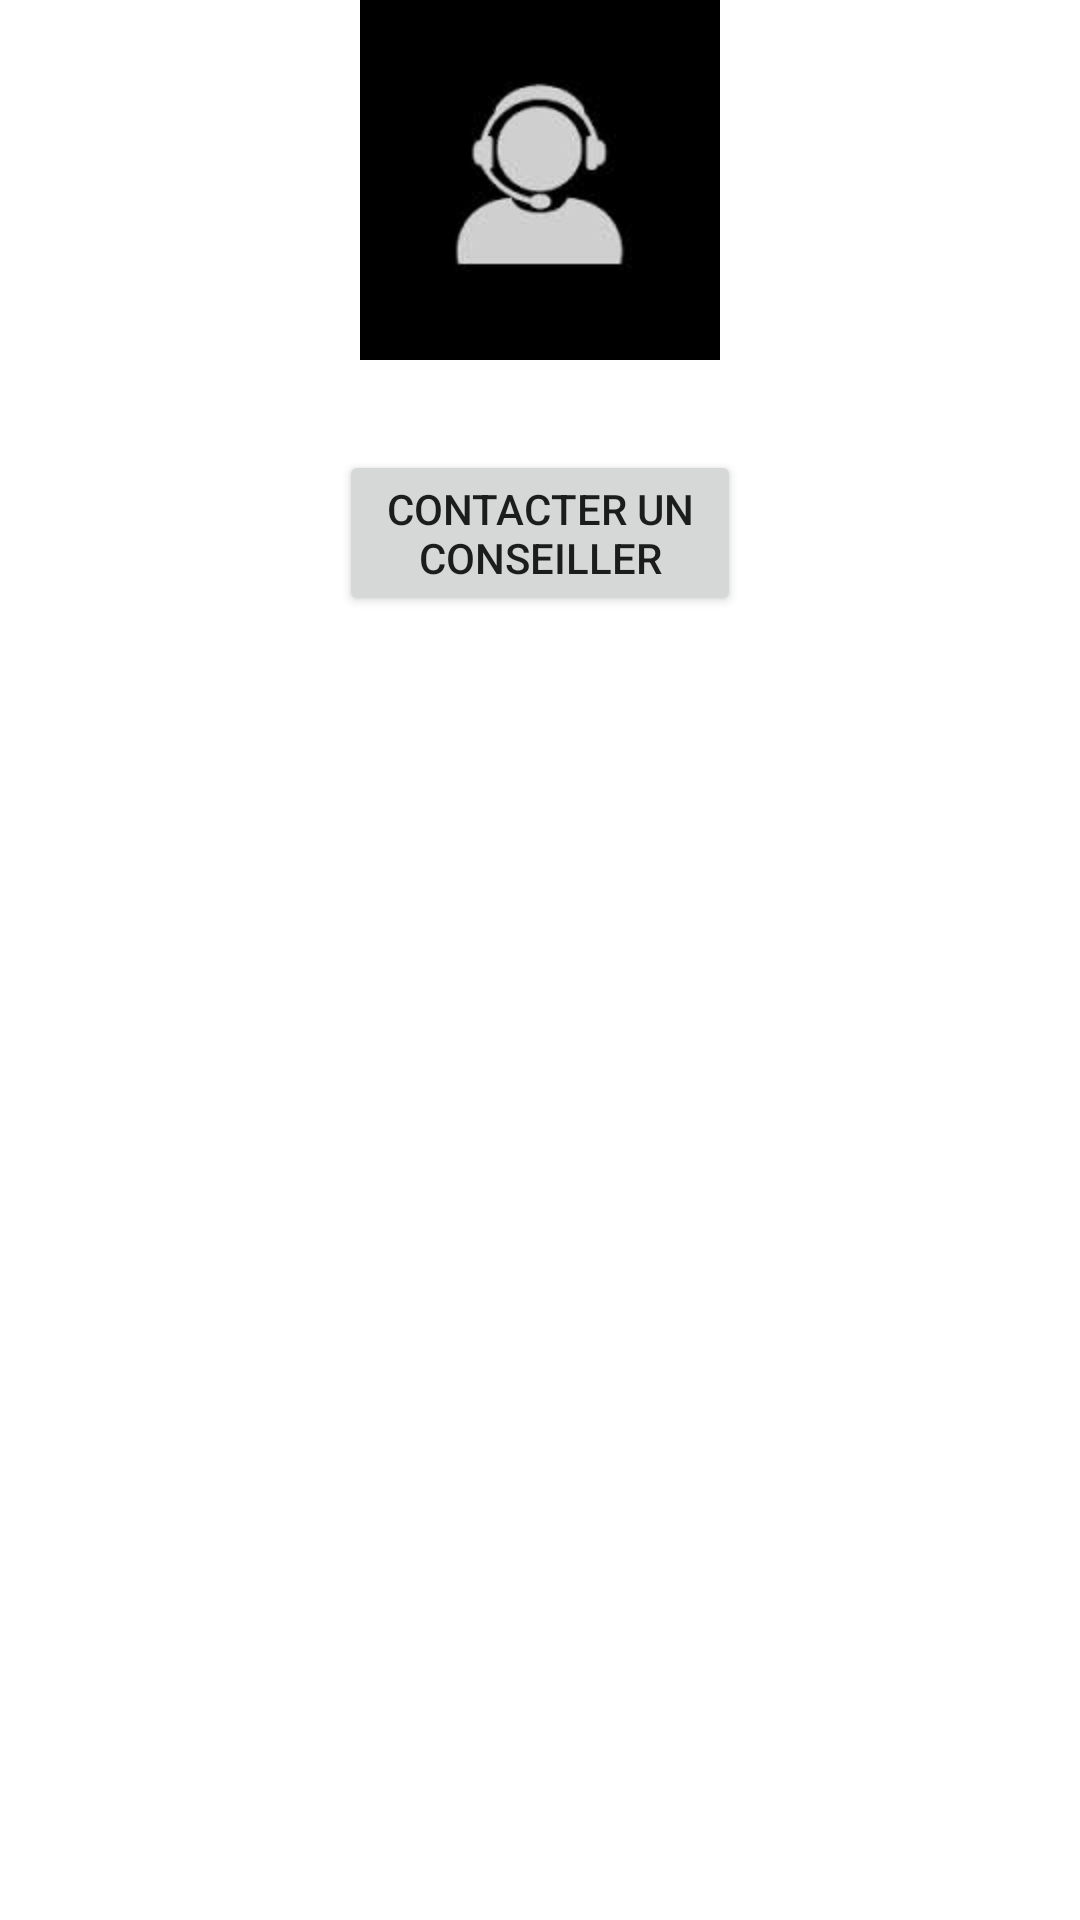

Icons on this 1080px x 1920px Android screen, each with the point to tap as (x,y):
assistance: (540,180)
